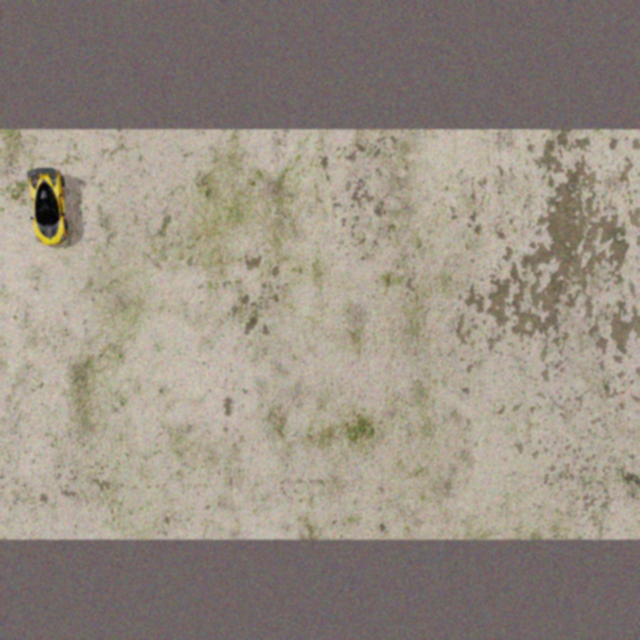car: (24, 165, 71, 248)
